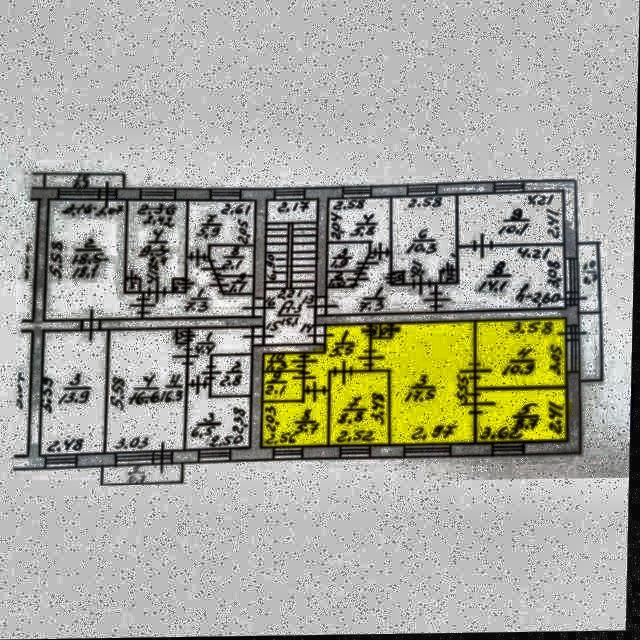room: (373, 323, 477, 446), (46, 200, 144, 321), (107, 328, 189, 456), (438, 248, 566, 313), (188, 328, 253, 451), (265, 200, 319, 347), (44, 331, 108, 455), (327, 254, 437, 316), (144, 259, 254, 319), (477, 321, 568, 390), (459, 194, 564, 247), (393, 198, 457, 284), (128, 201, 187, 293), (478, 390, 568, 444), (331, 373, 390, 447), (307, 326, 371, 391), (189, 202, 255, 257), (264, 393, 331, 447), (329, 200, 391, 253), (104, 465, 184, 486), (213, 356, 253, 397), (578, 246, 601, 315), (581, 316, 602, 382), (211, 247, 255, 276), (329, 244, 371, 272), (265, 374, 305, 402), (46, 175, 124, 189), (265, 355, 306, 372), (219, 277, 254, 294), (329, 273, 361, 288), (128, 279, 140, 293), (443, 272, 458, 283), (175, 280, 186, 293), (179, 330, 189, 344), (393, 274, 404, 285), (383, 325, 392, 338), (373, 326, 381, 339)
